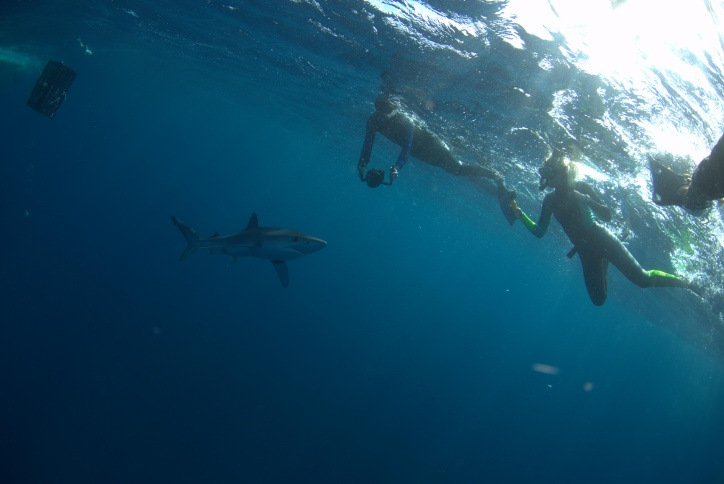Azul: (155, 199, 345, 290)
